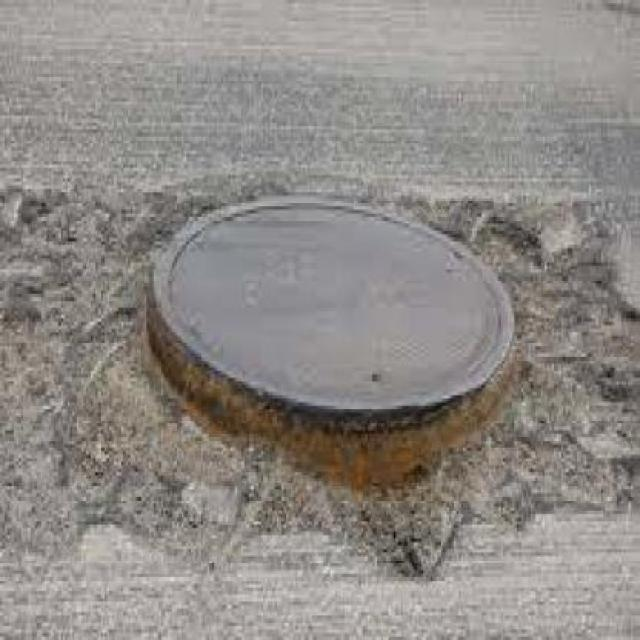Manhole: (152, 197, 514, 414)
